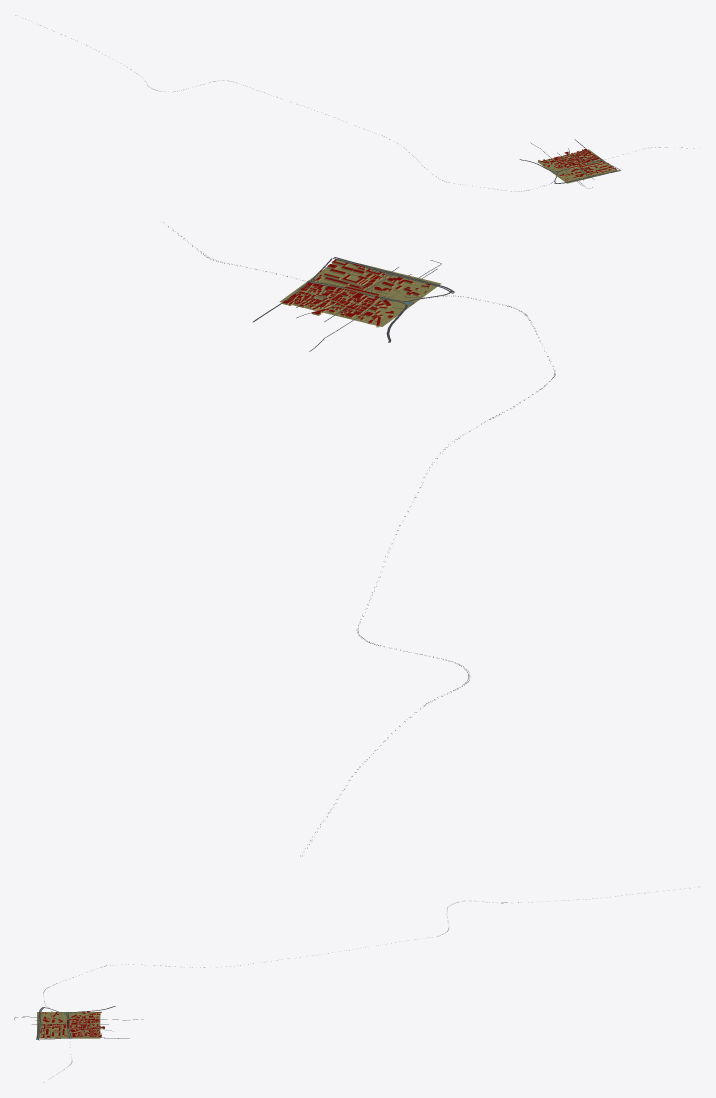
3 views of the same model, one above another, from view 1: azimuth 30°, elevation 25°; view 2: azimuth 150°, elevation 25°; view 3: azimuth 270°, elevation 25° (orthographic). The views are drawn at different scales.
Visible parts, largest first — view 1: SurfaceArea w-1; view 2: SurfaceArea w-1; view 3: SurfaceArea w-1.
Boxes of the visible parts, <box> form: SurfaceArea w-1: <box>551,165,595,183</box>; SurfaceArea w-1: <box>361,269,441,307</box>; SurfaceArea w-1: <box>37,1012,72,1026</box>.
Bounding box in the file's own units: 3974 × 18 × 5855.
Materials: 14 (13 with a texture image).
